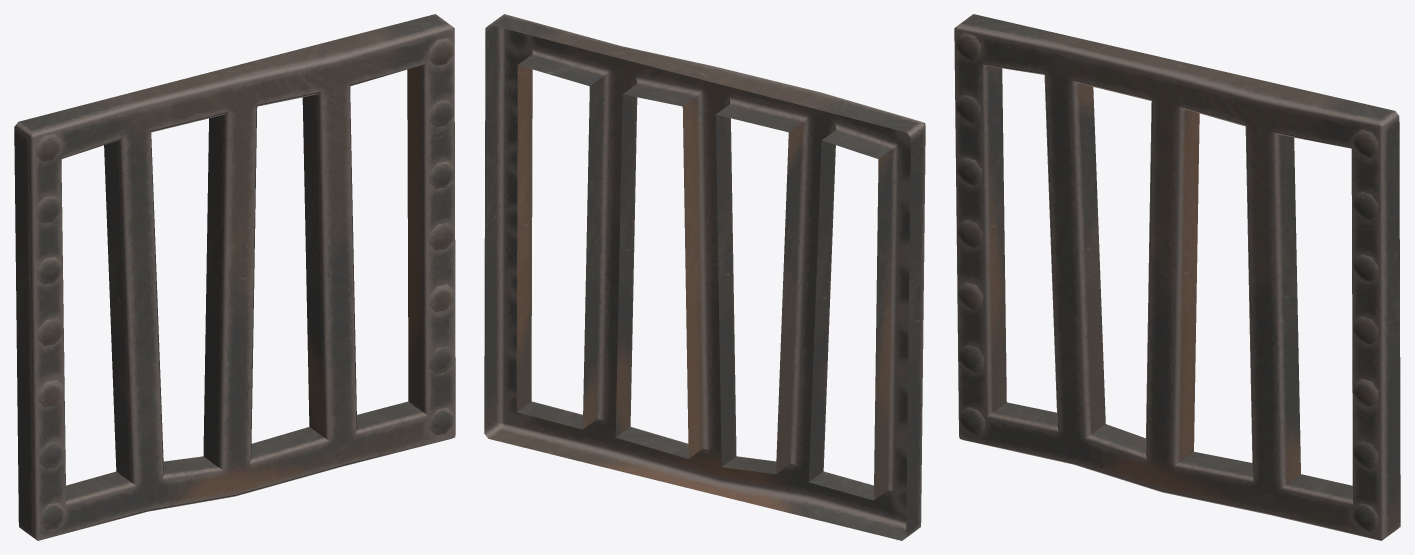
The model's file is Gate.fbx.
The picture shows the model from 3 angles, left to right: view 1: azimuth 30°, elevation 25°; view 2: azimuth 150°, elevation 25°; view 3: azimuth 330°, elevation 25°; orthographic projection.
Parts seen in each view (by area): view 1: SM_JF_Button_Gate_01; view 2: SM_JF_Button_Gate_01; view 3: SM_JF_Button_Gate_01.
Part boxes in pixels (x1,y1,x2,y2): SM_JF_Button_Gate_01: (14,14,455,540); SM_JF_Button_Gate_01: (484,14,925,540); SM_JF_Button_Gate_01: (954,14,1400,540).
Bounding box in the file's own units: 108 × 101 × 9.03.
